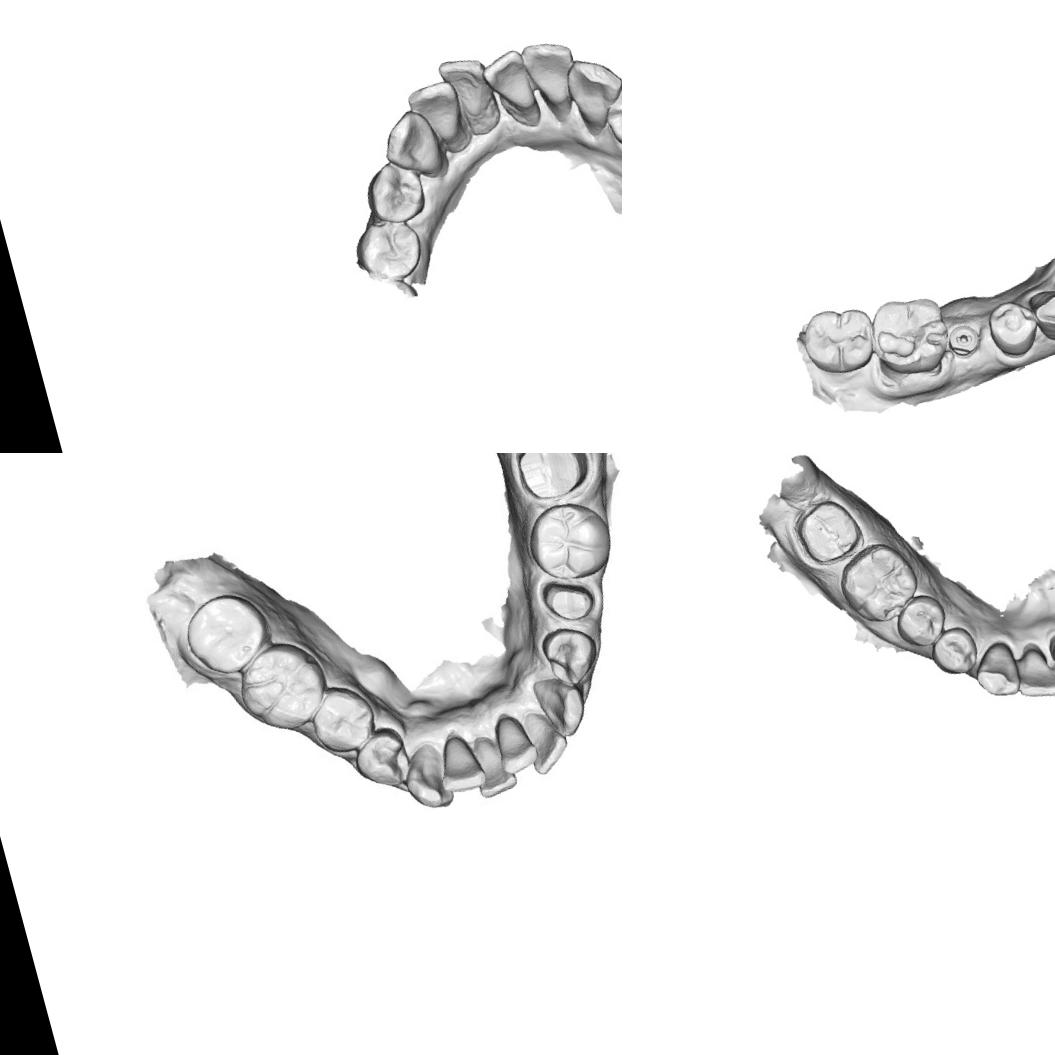canine: (374, 103, 452, 189), (560, 49, 622, 131), (529, 667, 594, 741), (399, 741, 460, 818), (967, 638, 1024, 704), (1025, 278, 1055, 345)
crown: (788, 492, 868, 570), (507, 453, 598, 508), (538, 572, 598, 630)
implant_minus: (941, 317, 985, 361)
incisor: (400, 72, 470, 152), (518, 31, 588, 110), (432, 48, 499, 126), (476, 45, 538, 116), (489, 710, 540, 776), (433, 732, 482, 794), (468, 734, 516, 797), (1008, 641, 1055, 704), (521, 711, 569, 770)
molar: (230, 634, 330, 739), (861, 286, 957, 385), (830, 535, 926, 632), (174, 583, 271, 676), (519, 494, 614, 584), (794, 296, 883, 382)
premolar: (346, 212, 430, 290), (355, 155, 431, 230), (344, 720, 415, 797), (535, 620, 602, 689), (980, 292, 1045, 363), (307, 686, 376, 750), (888, 588, 952, 652), (924, 622, 982, 679), (595, 72, 622, 155)
